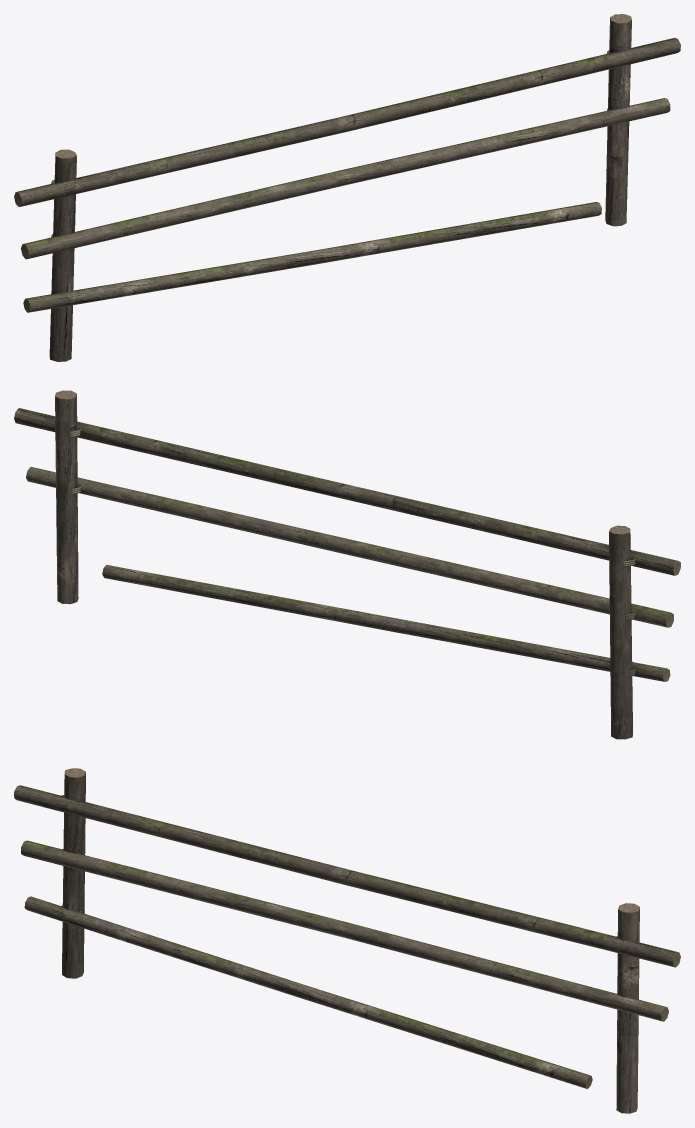
The model's file is fence.glb.
3 views of the same model, one above another, from view 1: azimuth 30°, elevation 25°; view 2: azimuth 150°, elevation 25°; view 3: azimuth 330°, elevation 25° (orthographic).
Visible parts, largest first — view 1: fence; view 2: fence; view 3: fence.
Part boxes in pixels (x1,y1,x2,y2): fence: (14,14,680,361); fence: (14,390,680,739); fence: (14,768,680,1113).
Size of the model in its own units: 4.75 by 1.4 by 0.2427.
1 material, 1 textured.
